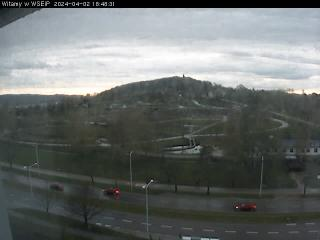car: (236, 202, 256, 212), (102, 186, 120, 196), (48, 182, 63, 190)
